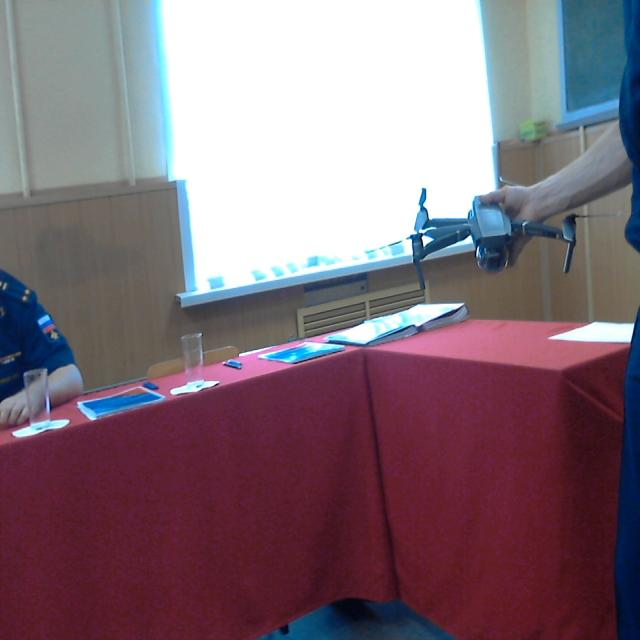drone: (399, 171, 594, 275)
